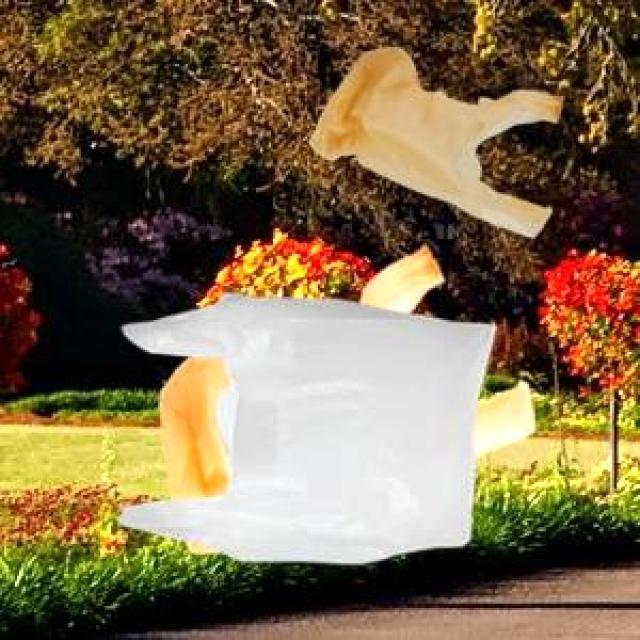Plastic_Bag: (157, 242, 530, 549), (114, 291, 494, 560), (306, 44, 560, 234)
